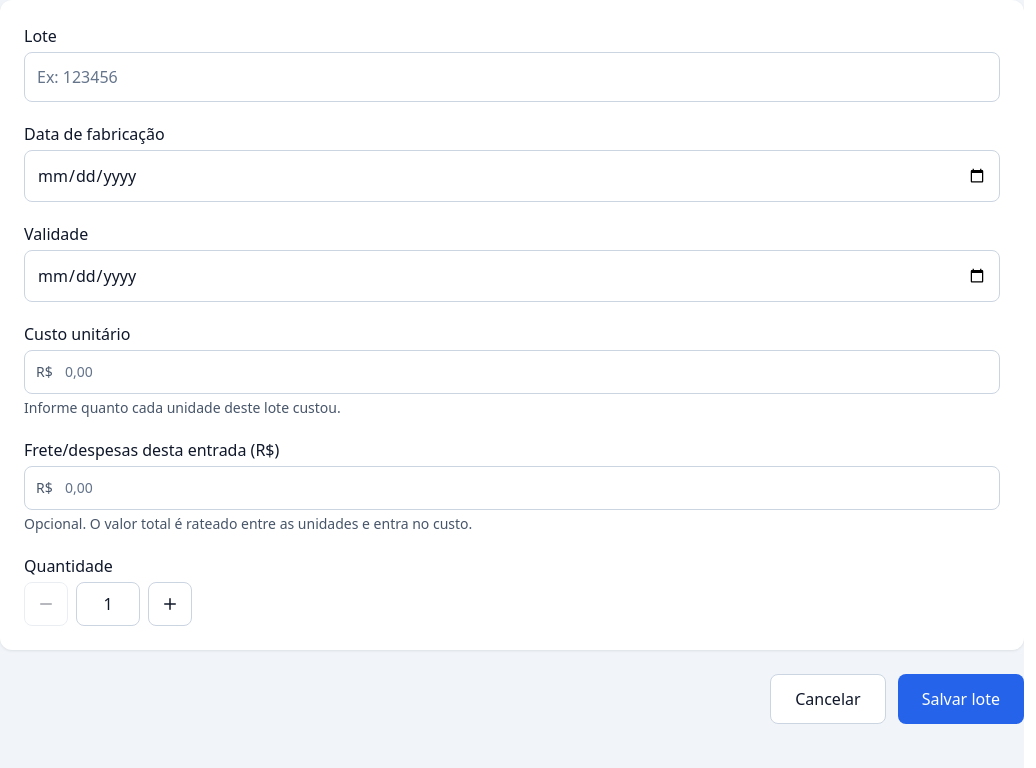
Test case: Lote: milhar e preenchimento em pt-BR › "1.23,4" é inválido e não envia
Type "L-1" into the field labelled "Lote" at (512, 77), box 24,52 -> 1000,102
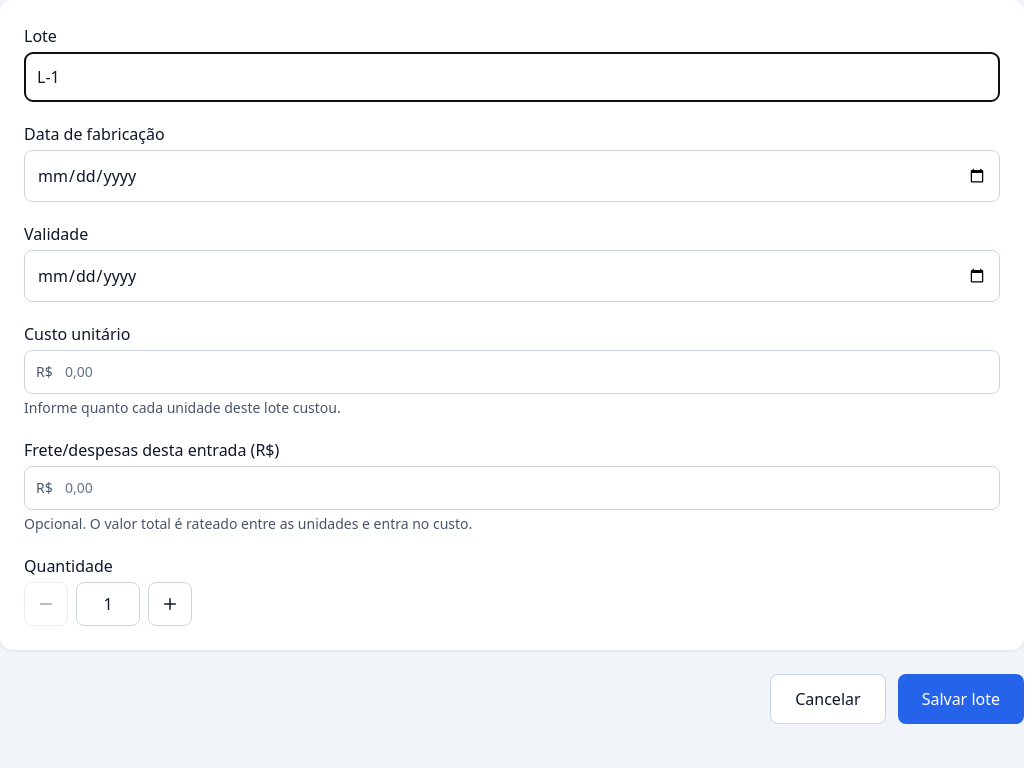
Type "2030-01-31" into the date field labelled "Validade" at (512, 276), box 24,250 -> 1000,302
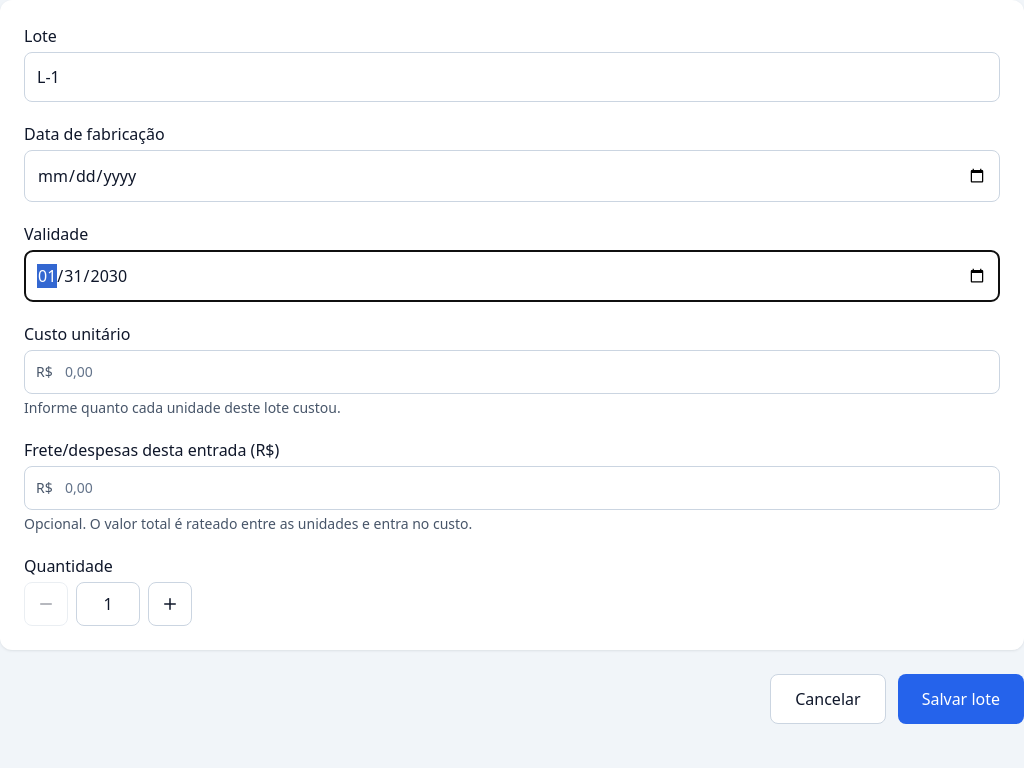
Type "1.23,4" into the field labelled "Custo unitário" at (512, 372), box 24,350 -> 1000,394
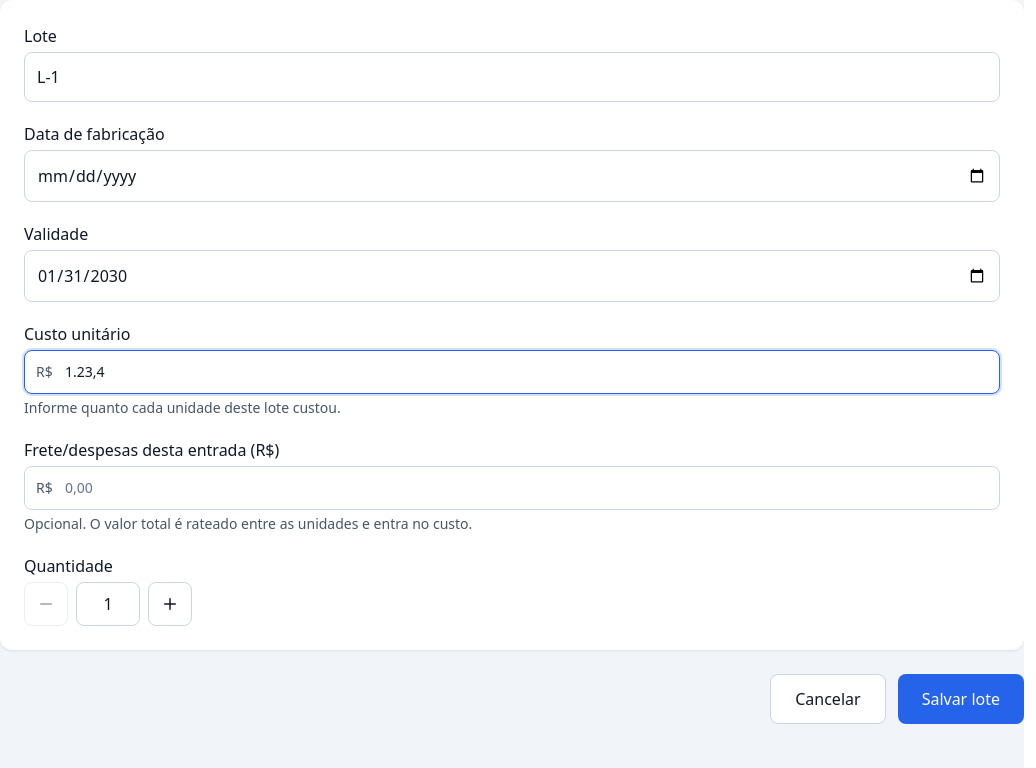
Click the button "Salvar lote" at (961, 699), box 898,674 -> 1024,724
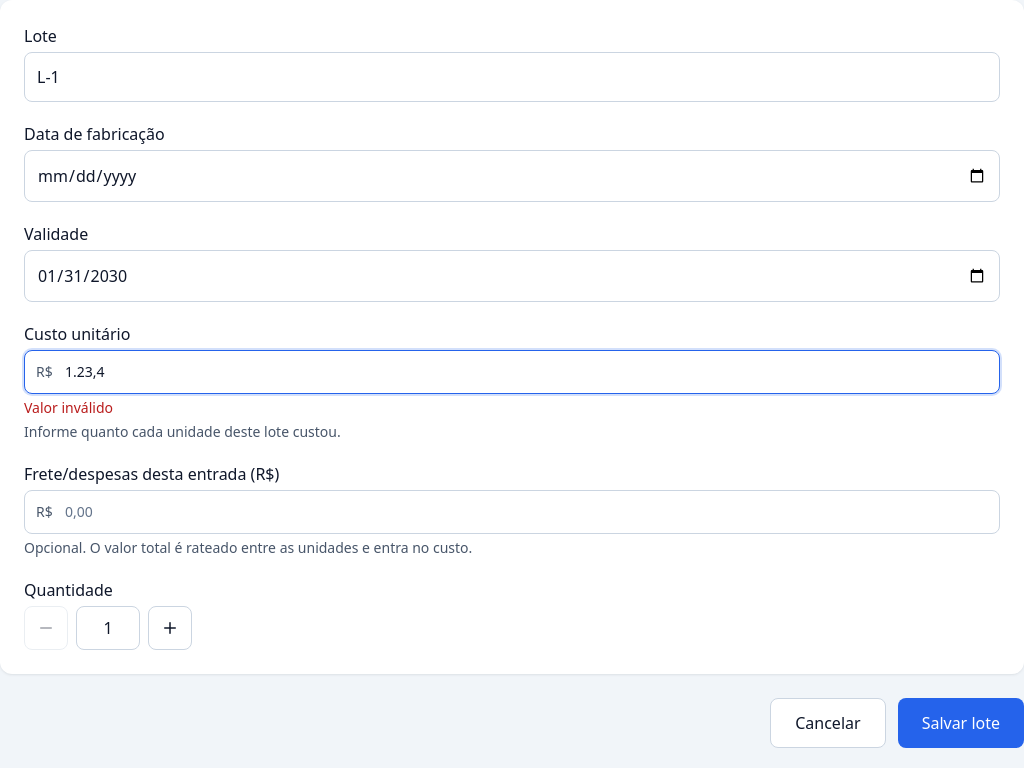
Expected: the text "Valor inválido" is shown, 24,398 -> 113,417
